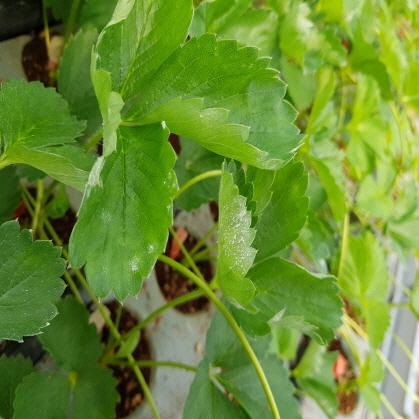Powdery Mildew Leaf: (66, 119, 180, 304), (216, 156, 259, 315)
